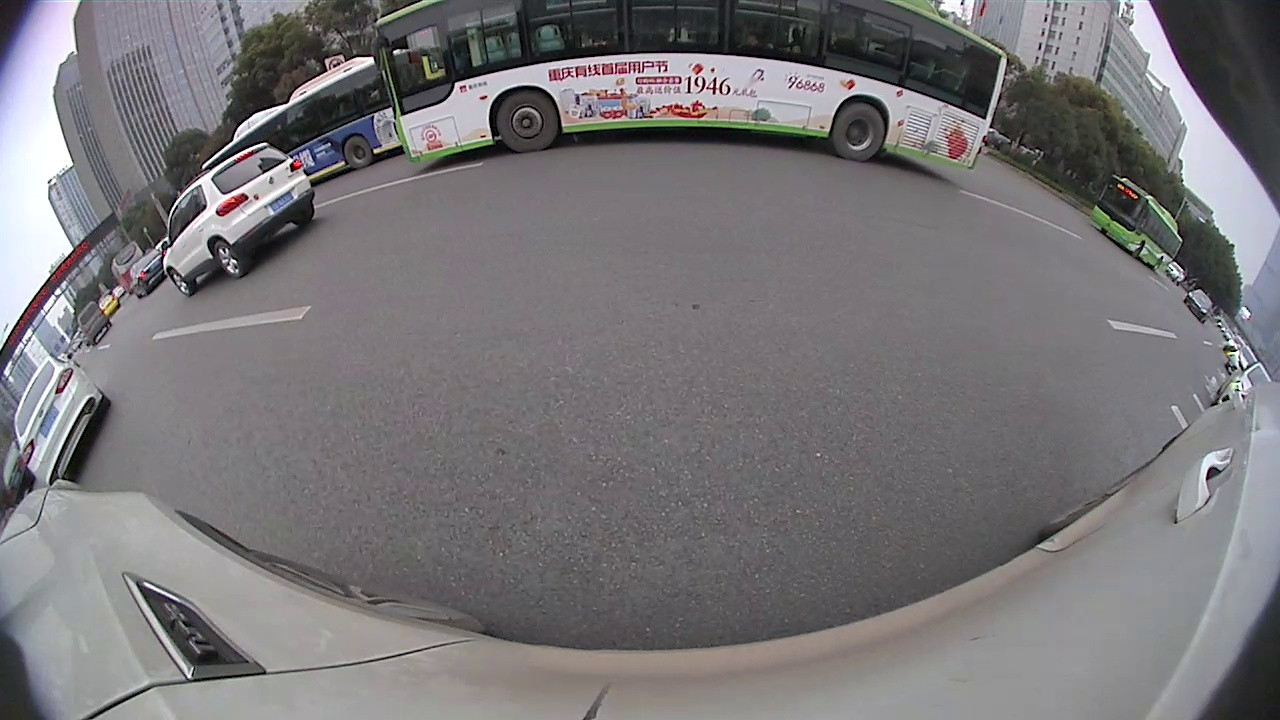bus: (364, 2, 1012, 177), (199, 50, 407, 184), (1087, 172, 1186, 281)
car: (156, 138, 319, 301), (11, 351, 109, 489)
front: (493, 90, 561, 153), (168, 268, 193, 298)
rear: (832, 102, 885, 163), (212, 240, 244, 280), (343, 135, 373, 169)
